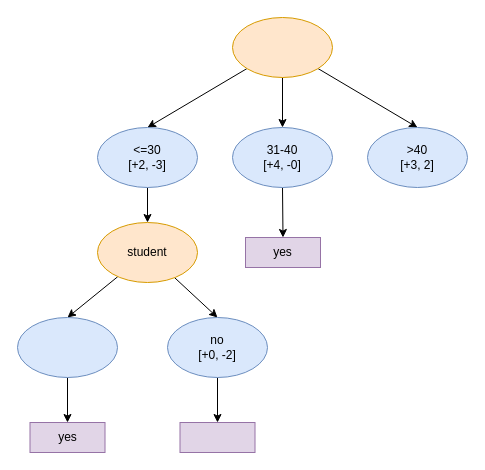
The diagram is 485 pixels wide and 470 high, and some of its shapes have lost their labels. Here are the shapes that lost their labels. From the top down, the centre of each, then its label:
the point at 282,47: age
the point at 67,347: yes [+3, -0]
the point at 217,437: no
